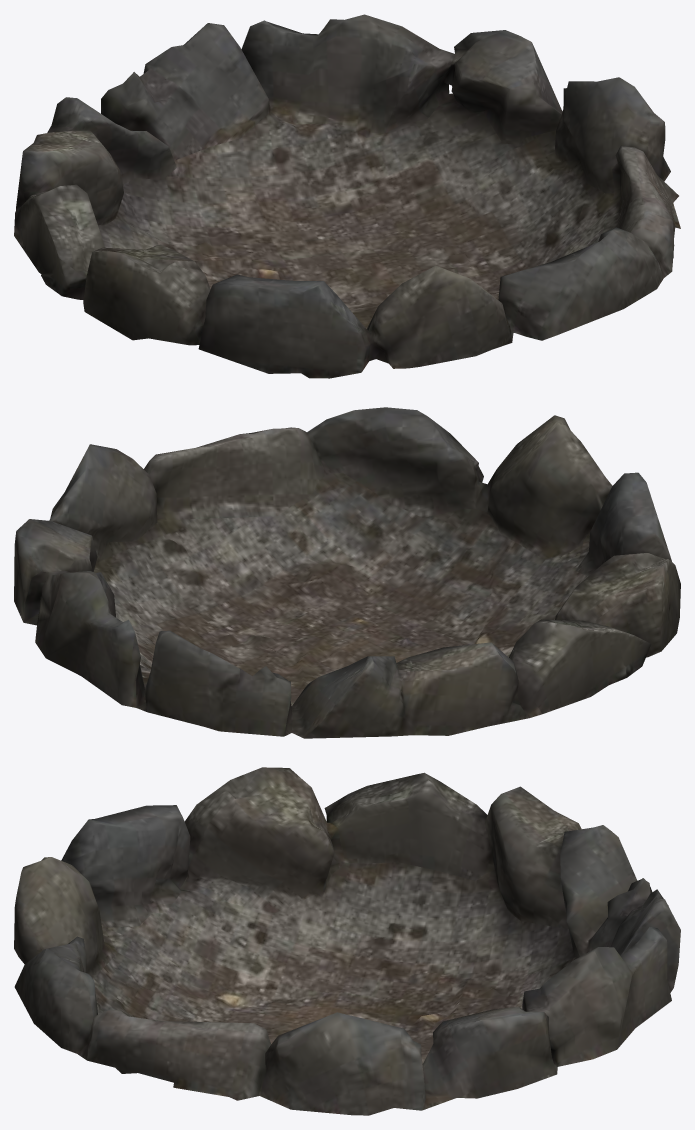
The model's file is stone_fire_pit.glb.
3 renders of one model, top to bottom at view 1: azimuth 30°, elevation 25°; view 2: azimuth 150°, elevation 25°; view 3: azimuth 270°, elevation 25°, orthographic.
Parts seen in each view (by area): view 1: stone_fire_pit; view 2: stone_fire_pit; view 3: stone_fire_pit.
Part boxes in pixels (bbox=[...]): stone_fire_pit: bbox=[14, 14, 680, 378]; stone_fire_pit: bbox=[14, 407, 680, 738]; stone_fire_pit: bbox=[14, 767, 680, 1115].
Bounding box in the file's own units: 1.45 × 0.3884 × 1.43.
1 material, 1 textured.
